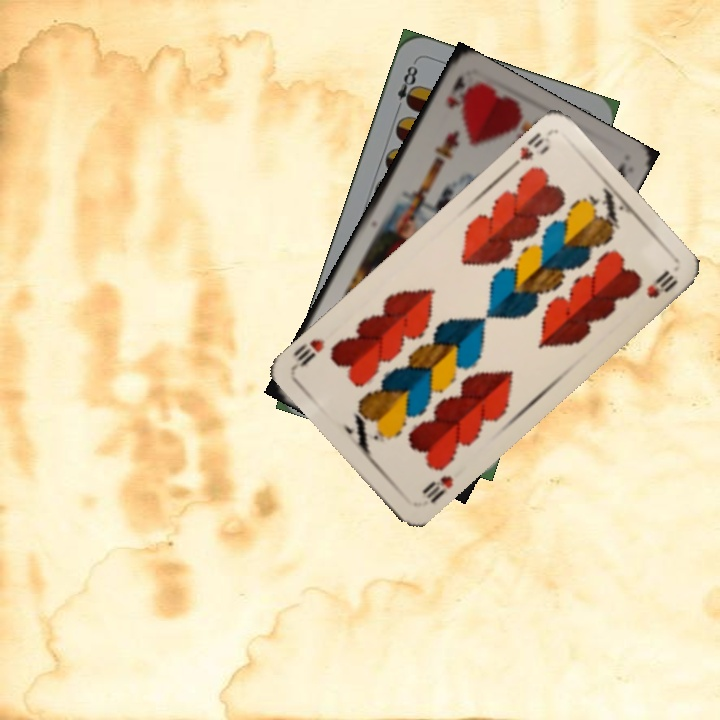E8: (391, 58, 421, 115)
H10: (504, 128, 552, 173), (418, 471, 456, 506)
HK: (443, 71, 473, 112)
